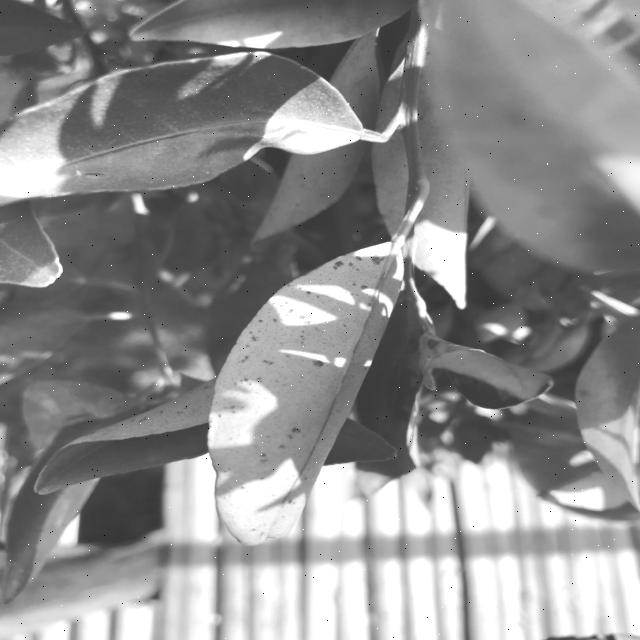melanose: (181, 239, 403, 541)
